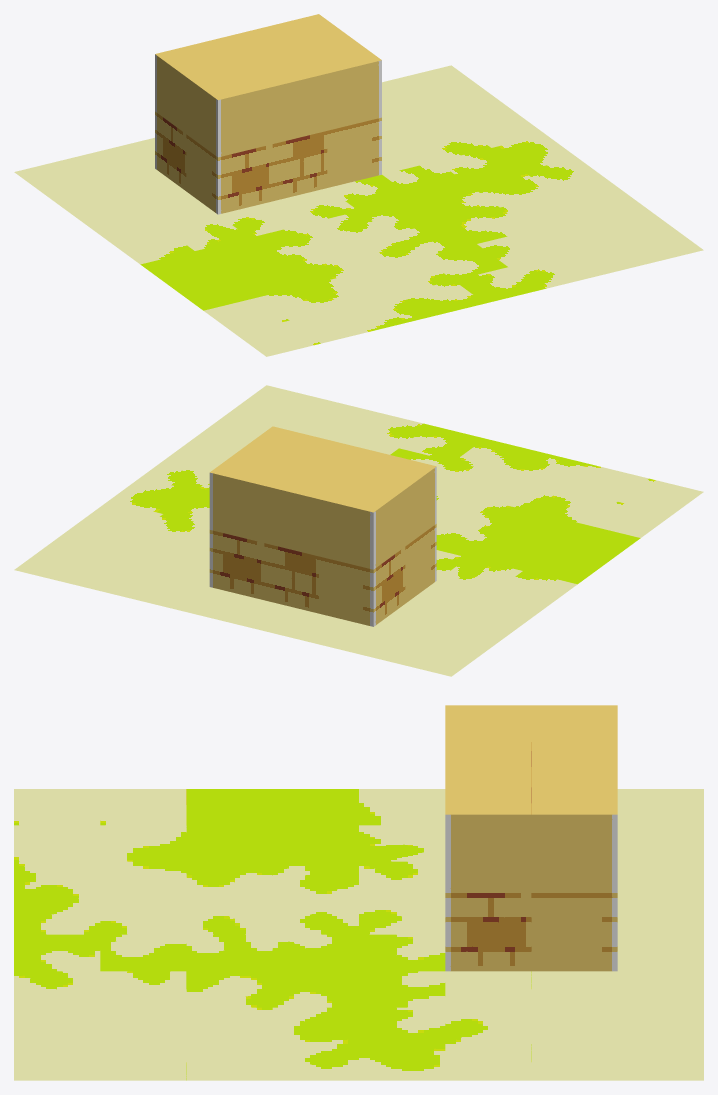
The model's file is Map Attempt Nov2025 v2.gltf.
The picture shows the model from 3 angles, top to bottom: view 1: azimuth 30°, elevation 25°; view 2: azimuth 150°, elevation 25°; view 3: azimuth 270°, elevation 25°; orthographic projection. The views are drawn at different scales.
Visible parts, largest first — view 1: default; view 2: default; view 3: default.
Part boxes in pixels (bbox=[...]): default: bbox=[14, 14, 703, 356]; default: bbox=[14, 385, 703, 676]; default: bbox=[14, 705, 703, 1080].
Size of the model in its own units: 8 by 2 by 8.
Materials: 1 (1 with a texture image).
